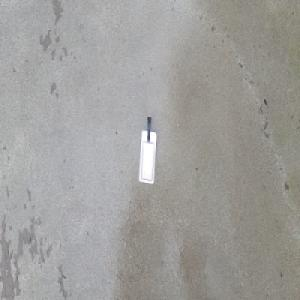LuggageTag: (137, 115, 158, 185)
